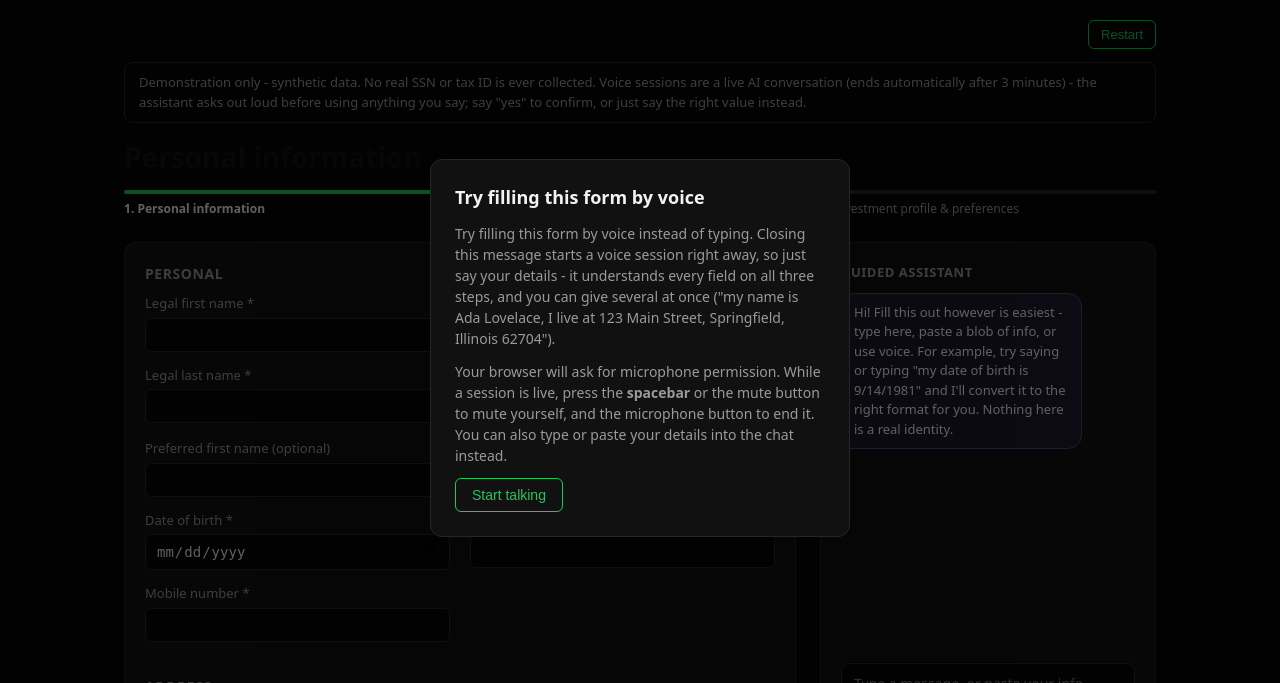
it: PersonalInformationPage › step 3 renders the investment profile, trusted contact, account features, and delivery groups
Click the button "Start talking" at (509, 495), box [455, 478, 563, 512]
(page scrolled)
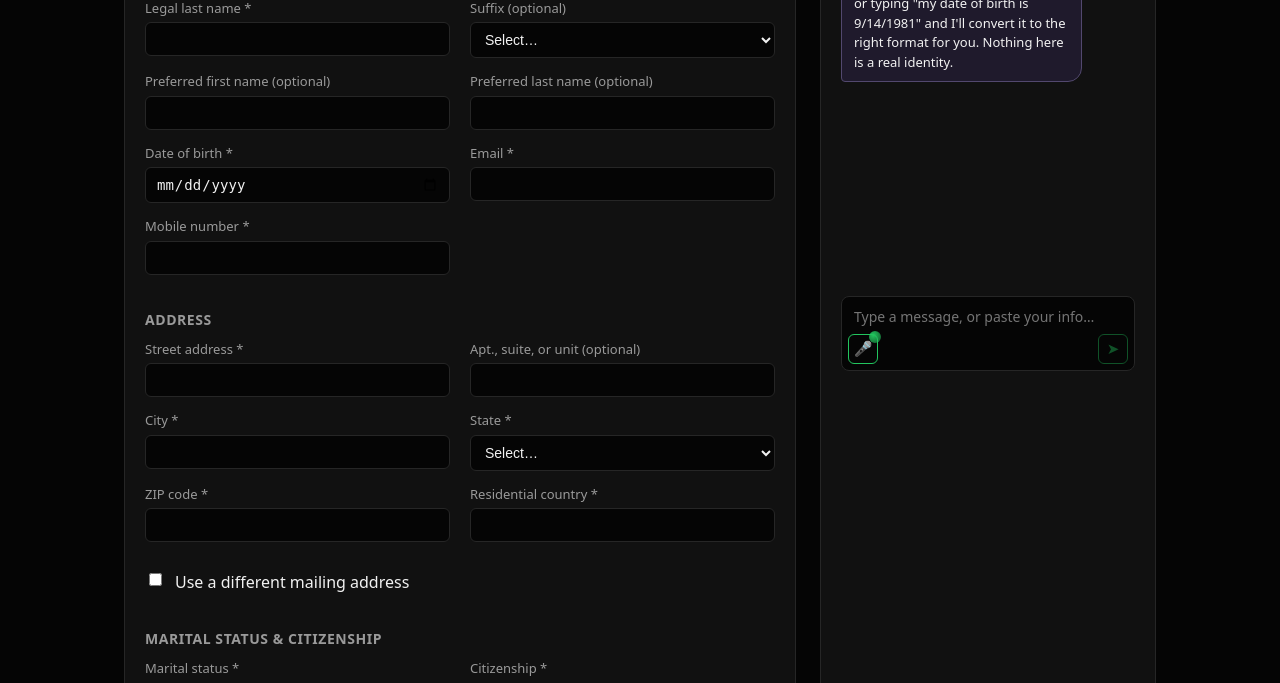
Click the button "🎤" at (863, 348), box [848, 334, 878, 364]
(page scrolled)
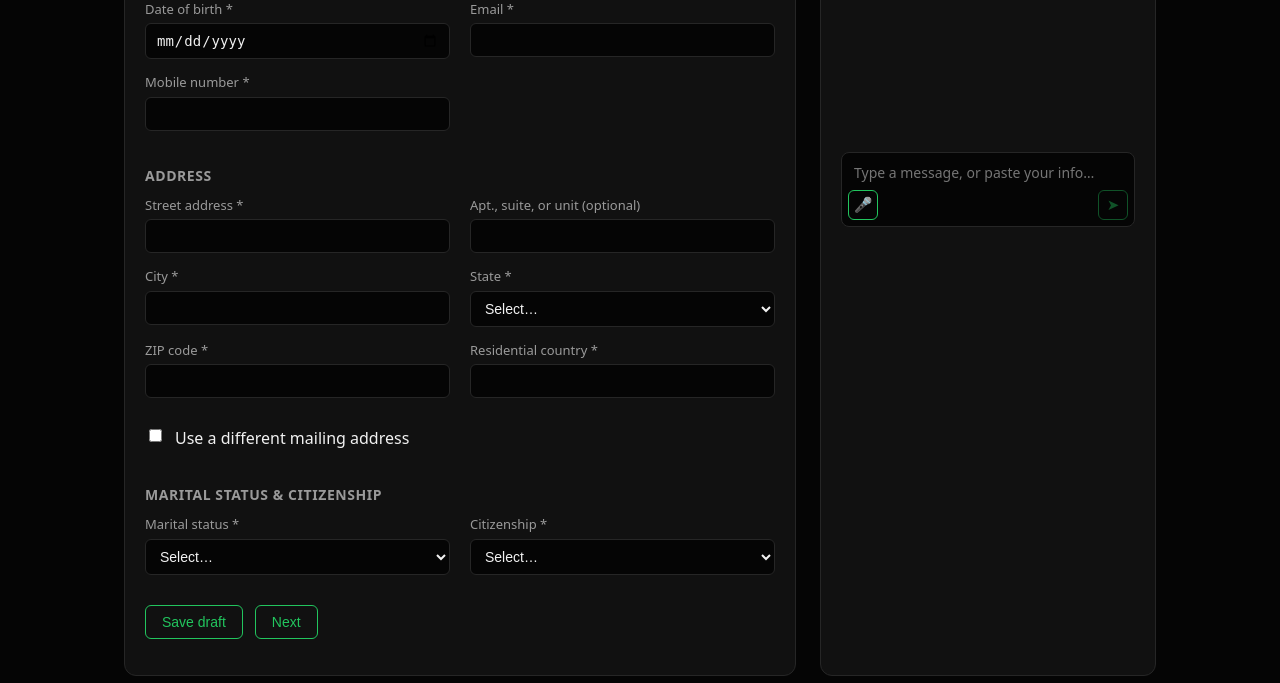
Click the button "Next" at (286, 622), box [255, 604, 318, 638]
(page scrolled)
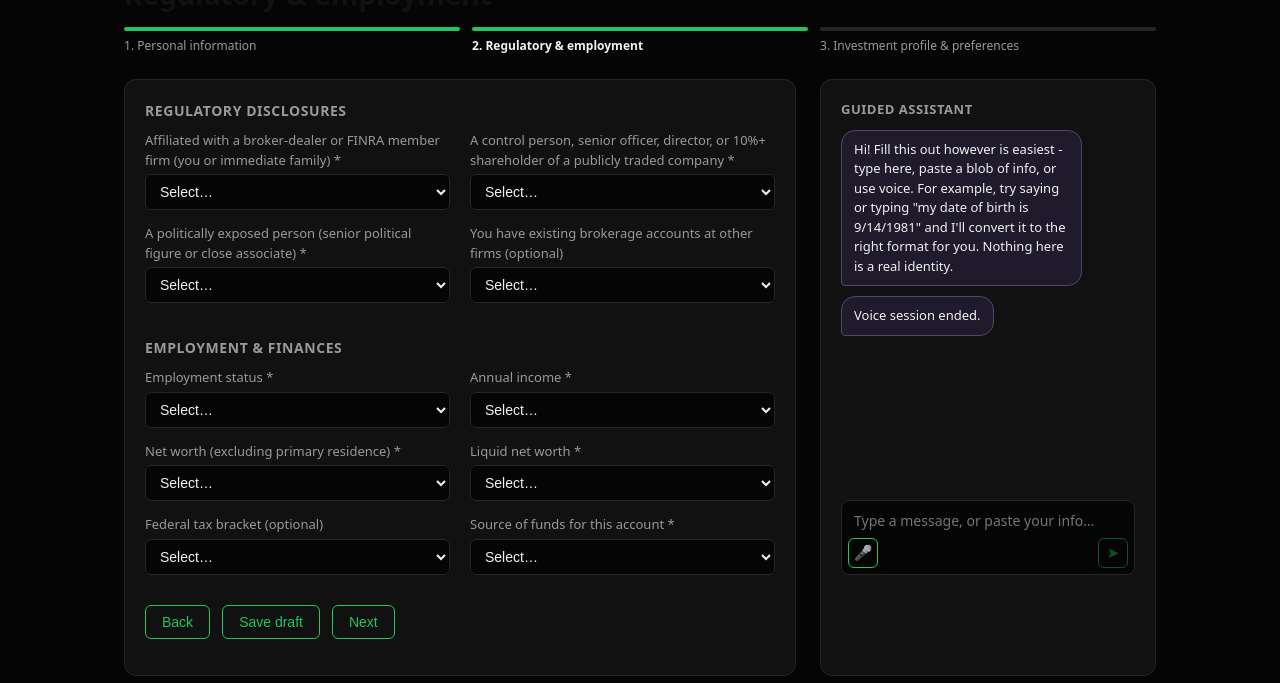
Click the button "Next" at (363, 622), box [332, 604, 395, 638]
(page scrolled)
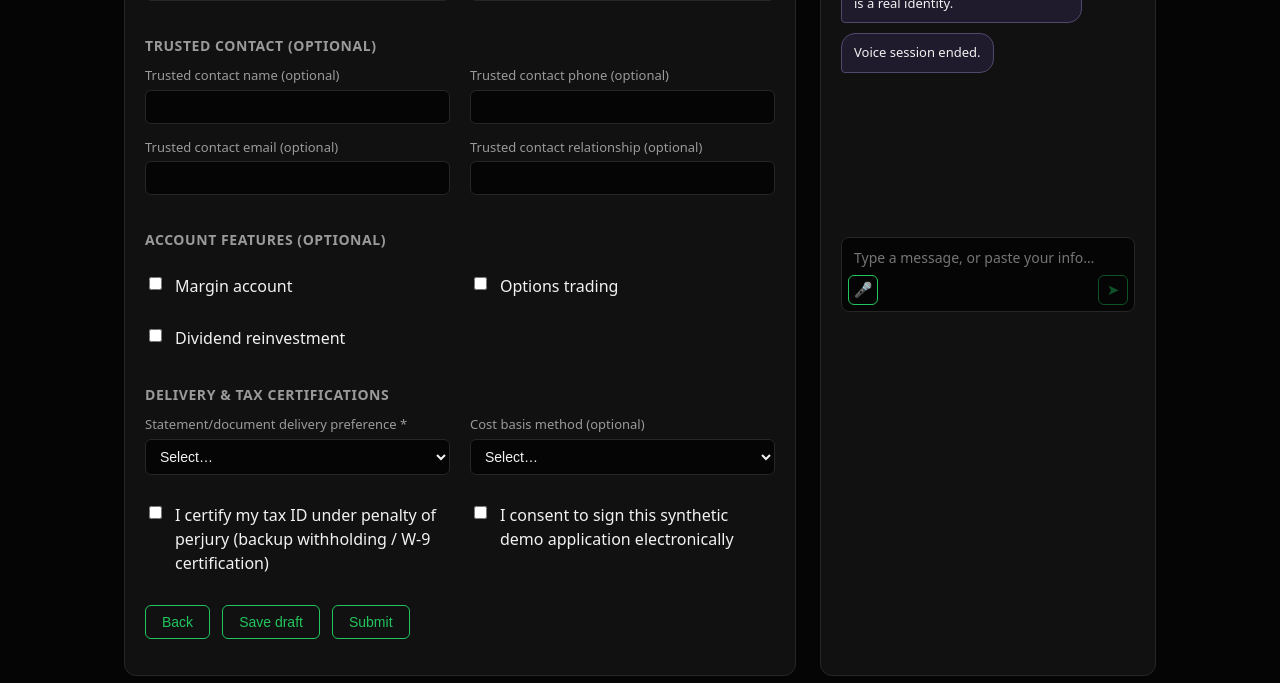
Now the heading "Trusted contact (optional)" is shown, box [145, 36, 377, 55]
Now the heading "Account features (optional)" is shown, box [145, 230, 386, 249]
Now the heading "Delivery & tax certifications" is shown, box [145, 385, 389, 404]
